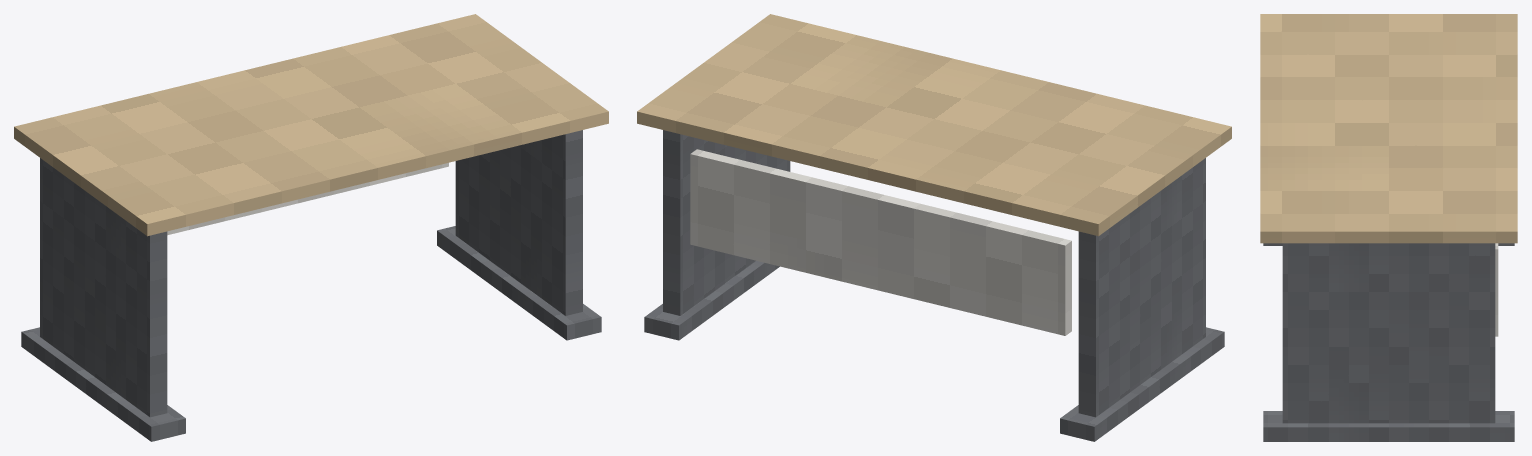
The model's file is pixel-modern-office-desk-straight-ce8ce07c.glb.
The picture shows the model from 3 angles, left to right: view 1: azimuth 30°, elevation 25°; view 2: azimuth 150°, elevation 25°; view 3: azimuth 270°, elevation 25°; orthographic projection. The views are drawn at different scales.
Visible parts, largest first — view 1: desk-straight; view 2: desk-straight; view 3: desk-straight.
Part boxes in pixels (box(x1,y1,x2,y2)): desk-straight: box(14, 14, 608, 441); desk-straight: box(637, 14, 1231, 441); desk-straight: box(1260, 14, 1517, 441).
Bounding box in the file's own units: 1.6 × 0.73 × 0.8001.
3 materials, 3 textured.
